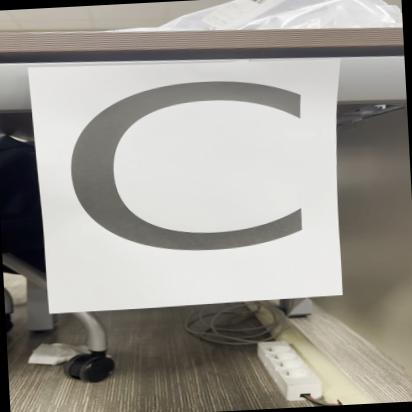seat: (32, 56, 337, 314)
